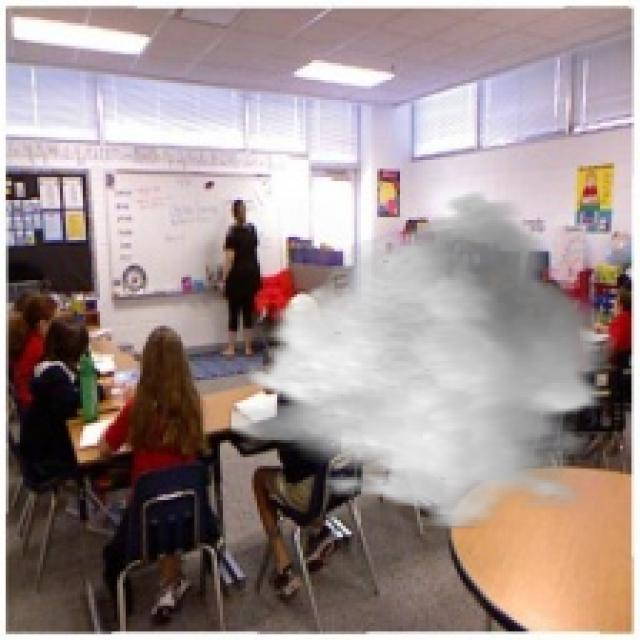smoke: (229, 186, 617, 528)
